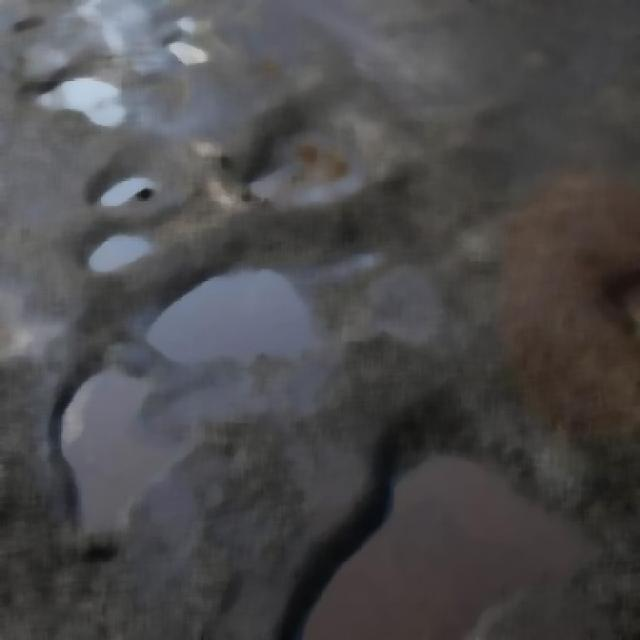Pothole: (295, 416, 590, 639), (49, 352, 176, 536), (150, 259, 312, 381), (240, 142, 374, 213), (30, 57, 133, 134), (170, 22, 204, 81)
